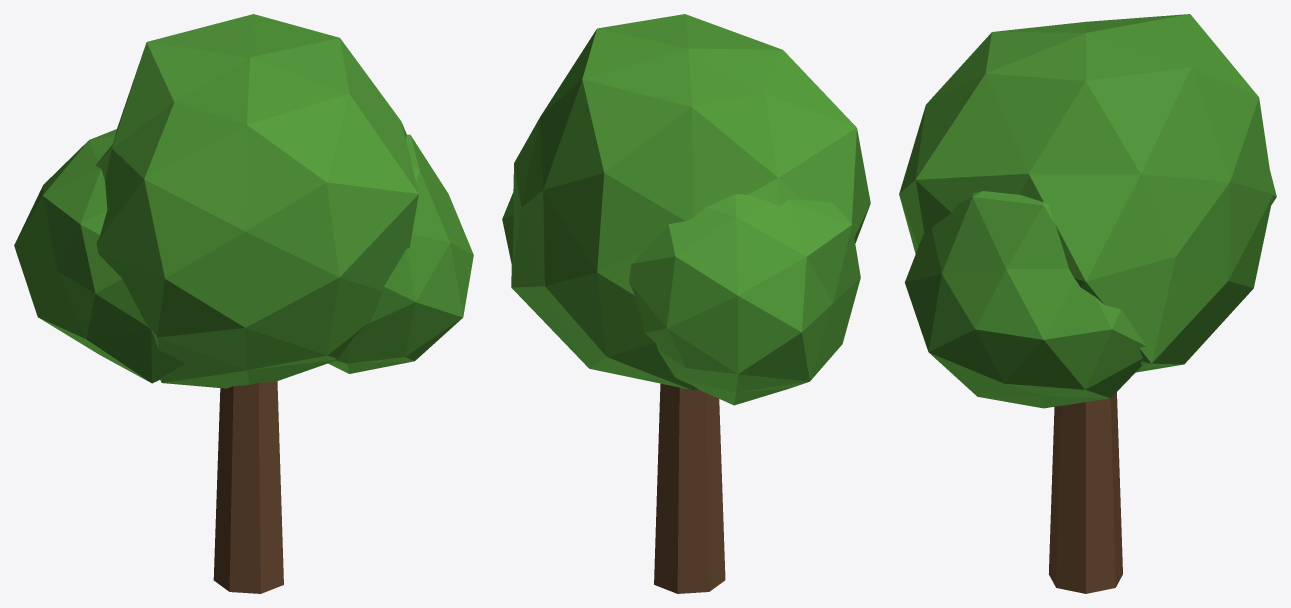
File: tree.glb
3 renders of one model, left to right at view 1: azimuth 30°, elevation 25°; view 2: azimuth 150°, elevation 25°; view 3: azimuth 270°, elevation 25°, orthographic. The views are drawn at different scales.
Bounding box in the file's own units: 2.08 × 2.84 × 1.79.
